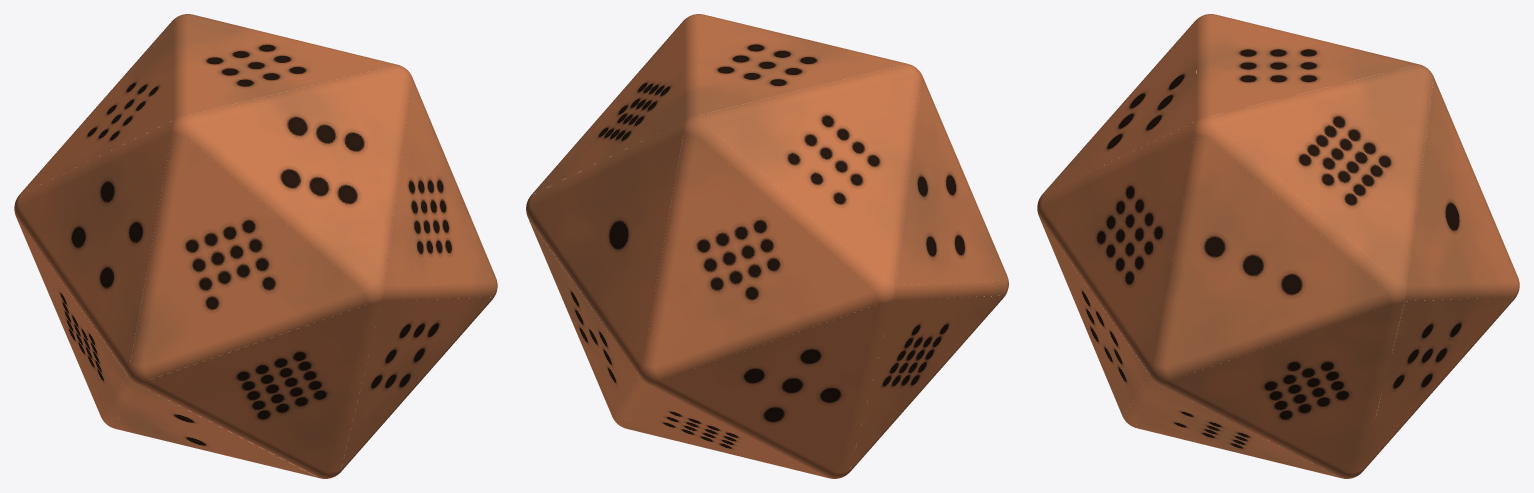
File: die-1.glb
The picture shows the model from 3 angles, left to right: view 1: azimuth 30°, elevation 25°; view 2: azimuth 150°, elevation 25°; view 3: azimuth 270°, elevation 25°; orthographic projection.
Visible parts, largest first — view 1: Die 1; view 2: Die 1; view 3: Die 1.
Boxes of the visible parts, left/top/right/bottom form: Die 1: left=14, top=14, right=497, bottom=478; Die 1: left=526, top=14, right=1008, bottom=478; Die 1: left=1037, top=14, right=1519, bottom=478.
Size of the model in its own units: 0.0582 by 0.0549 by 0.0663.
1 material, 1 textured.
